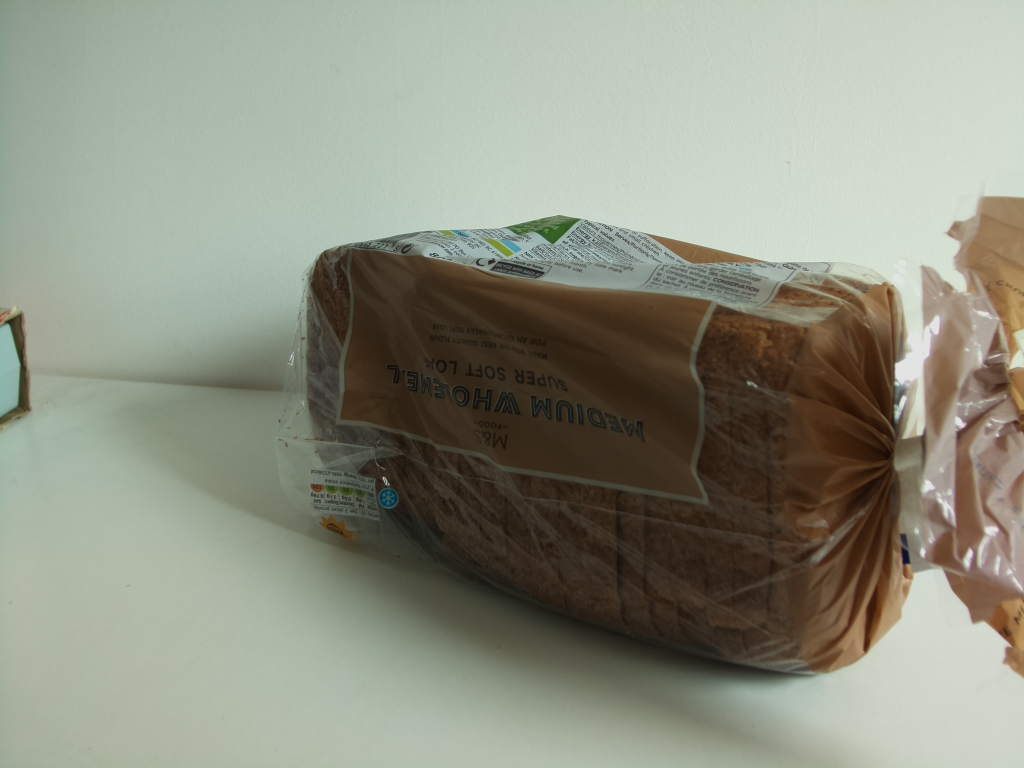bread: (270, 189, 1024, 680)
